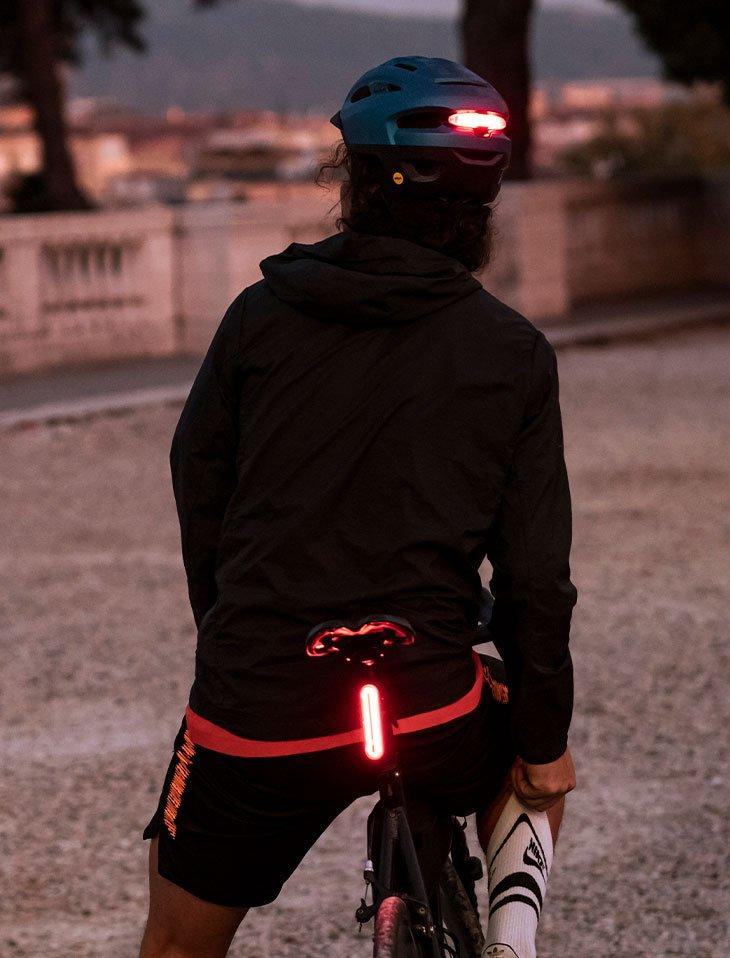helmet: (285, 32, 581, 230)
